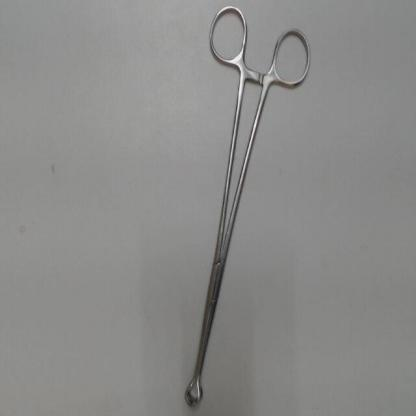8 Babcock Tissue Forceps: (180, 0, 320, 413)
